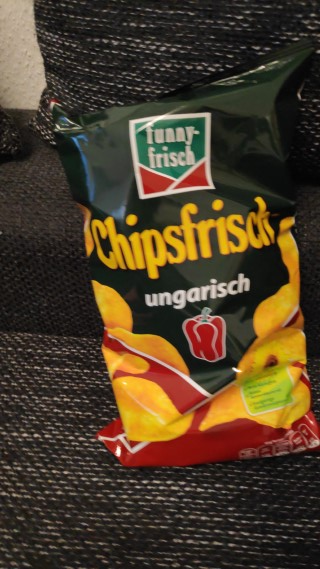chipsfrisch: (44, 40, 320, 471)
